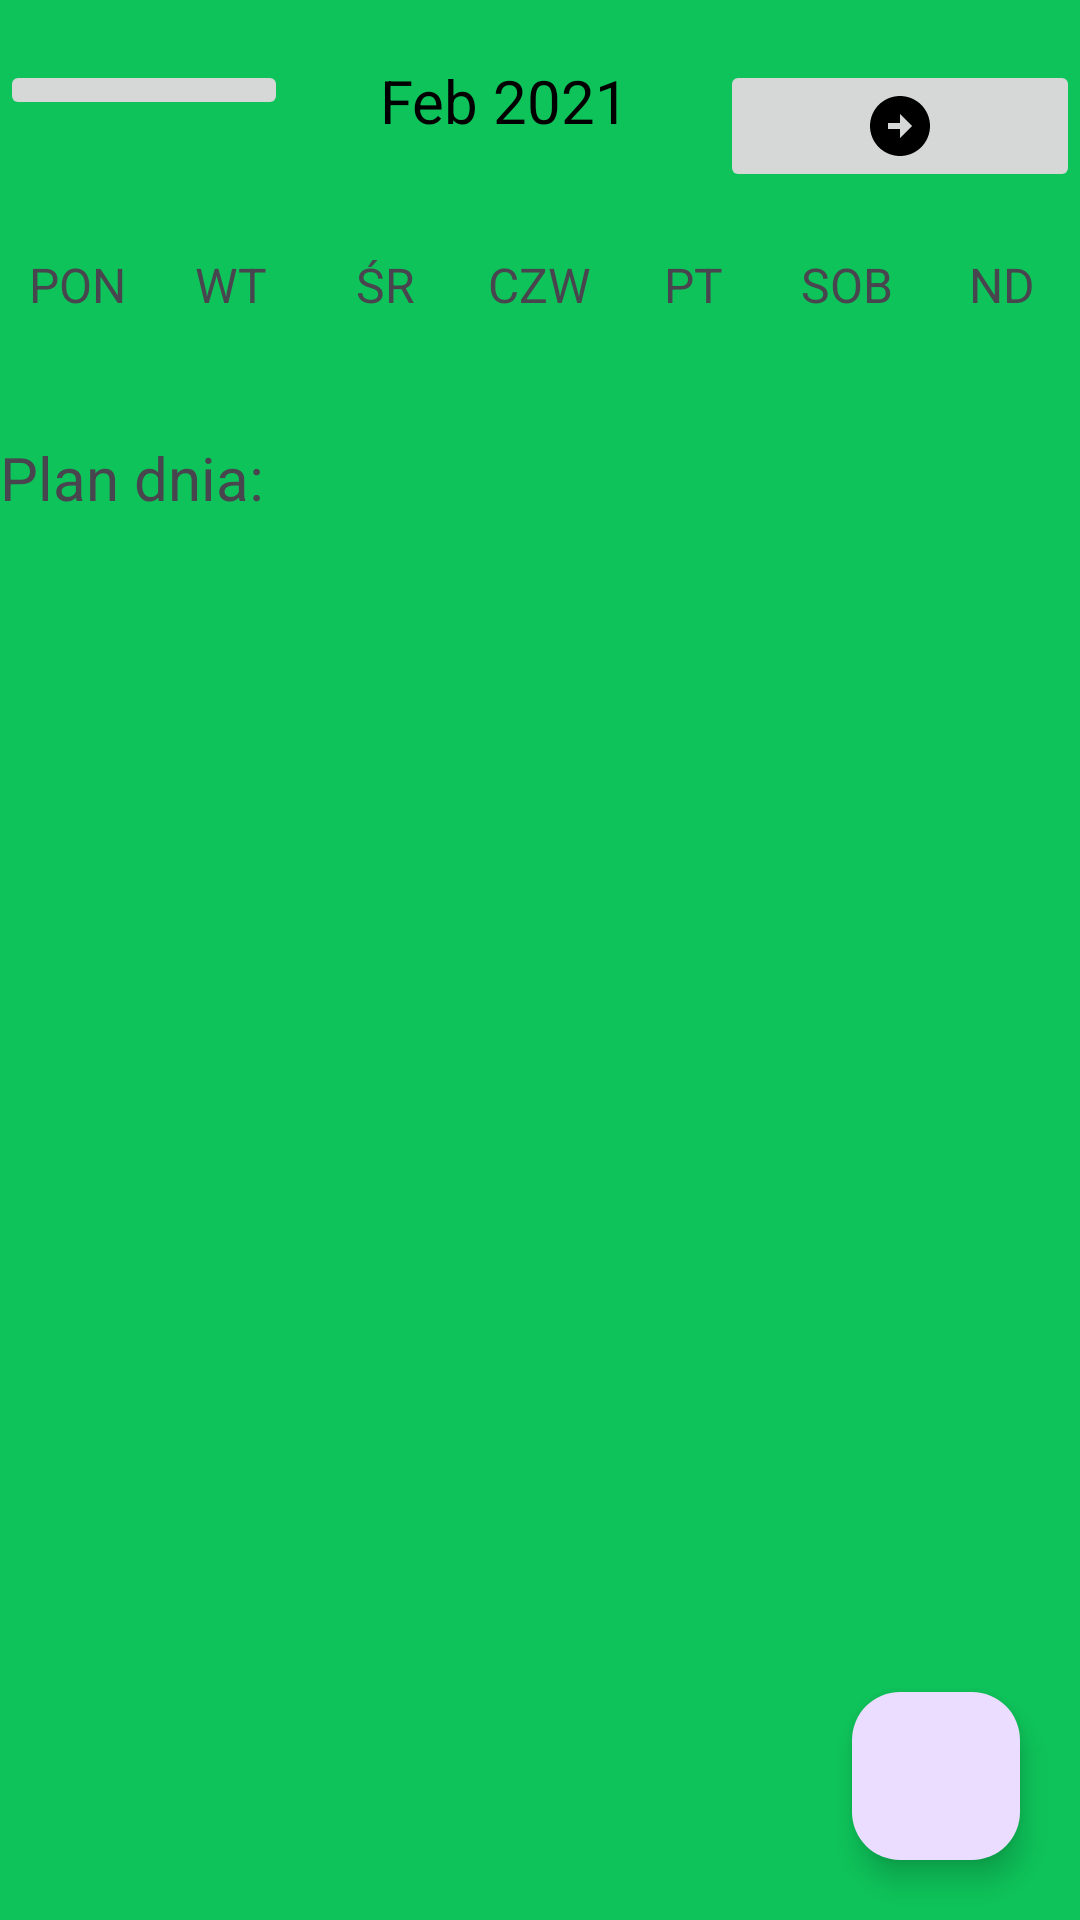

Screen size 1080px×1920px. Icon name, then its box in pixels as (x1, y1, x2, y2):
right: (732, 78, 1068, 174)
